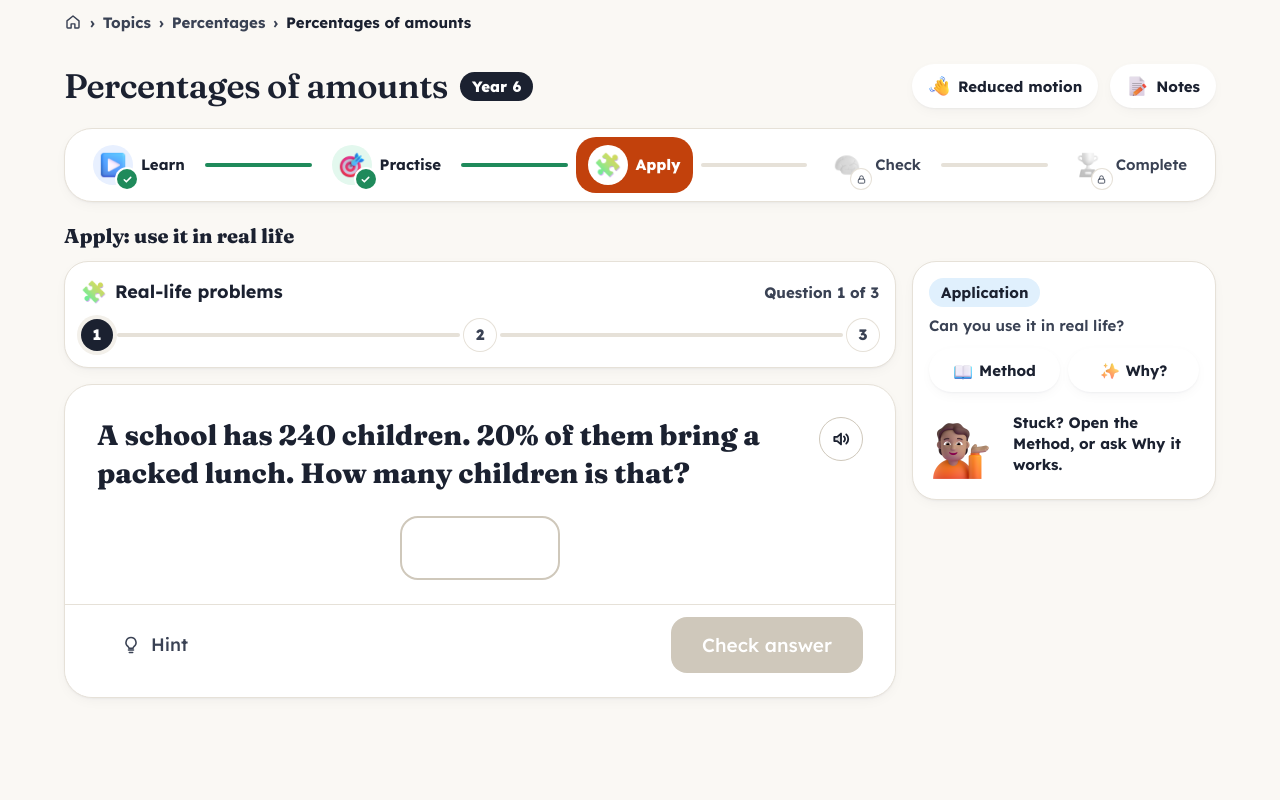
Test case: topic journey: Learn, Practise, Apply, Check, Complete (D-043) › opens the Notes at any stage and closes them with Escape
This screenshot has width=1280, height=800.
Click the button "Notes". click: (1163, 86)
box: [1110,64,1216,108]
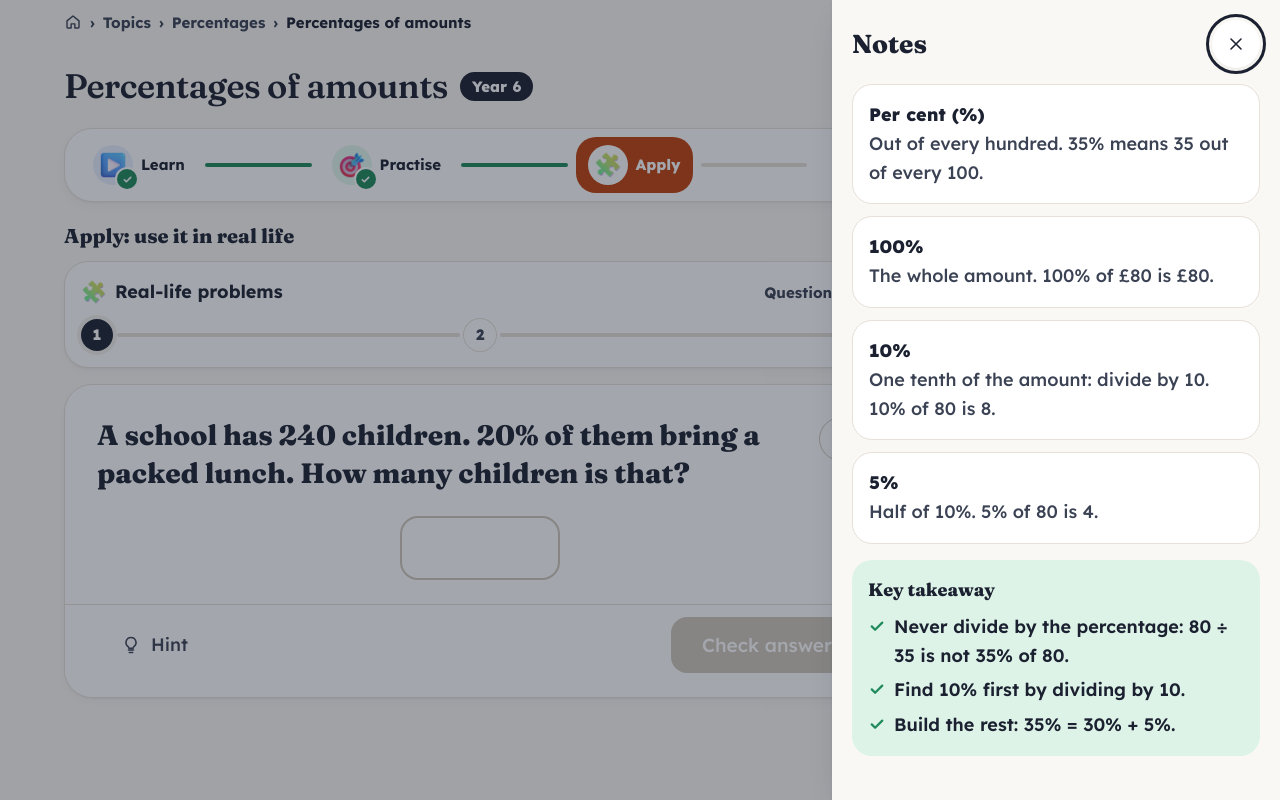
Check: the text "Per cent (%)" is shown, box [869,103,985,126]
Press Escape
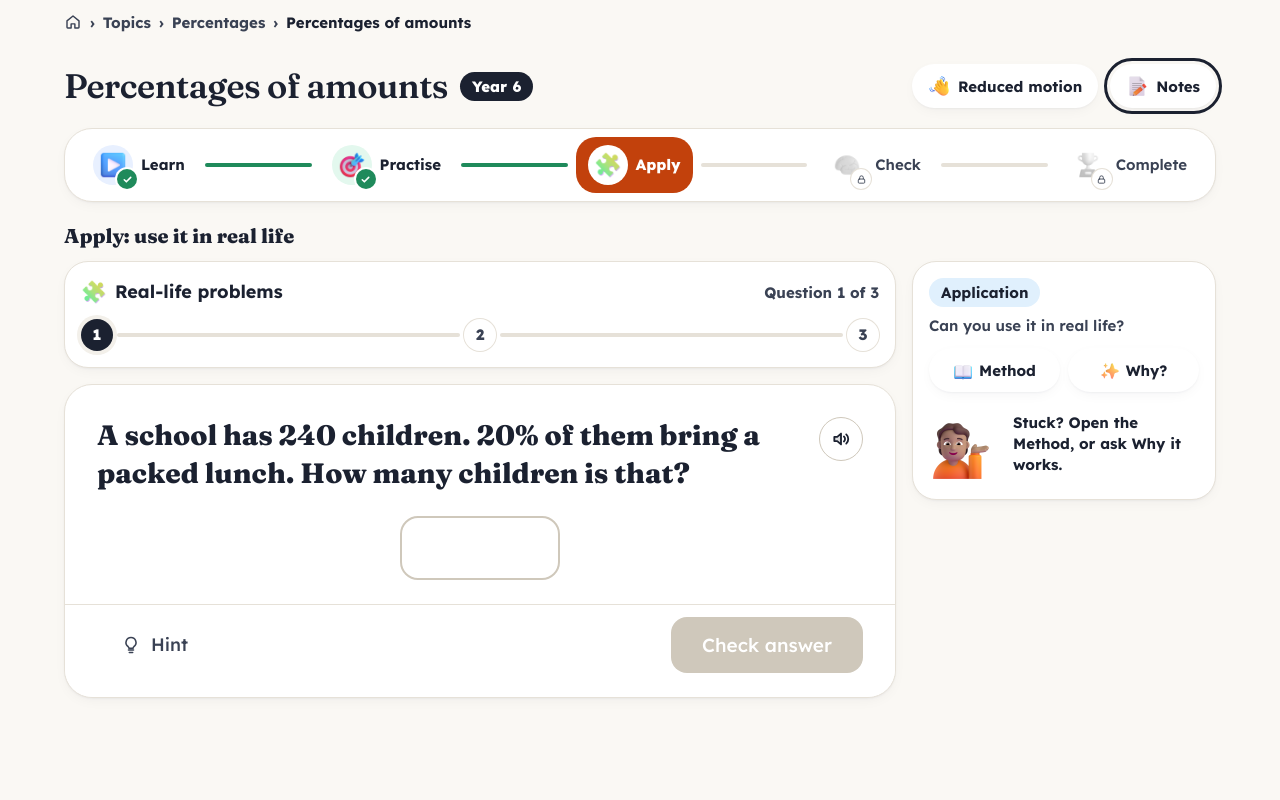
Check: the dialog is gone
